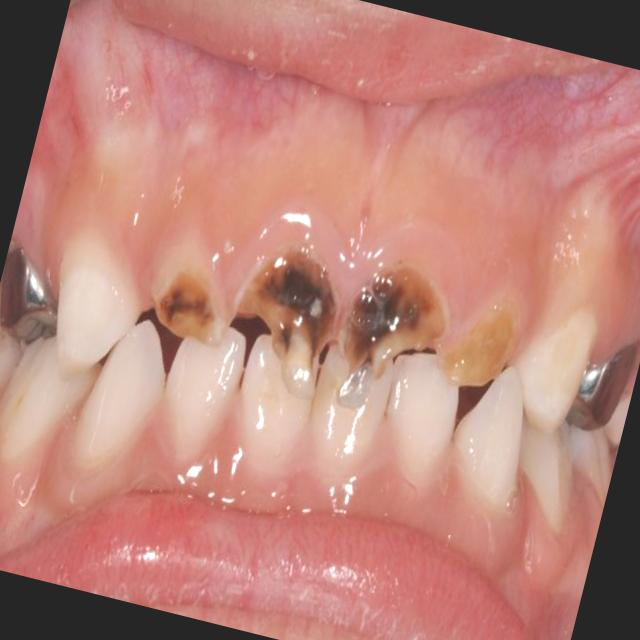caries: (228, 237, 353, 396), (334, 244, 462, 398), (140, 242, 235, 348)
